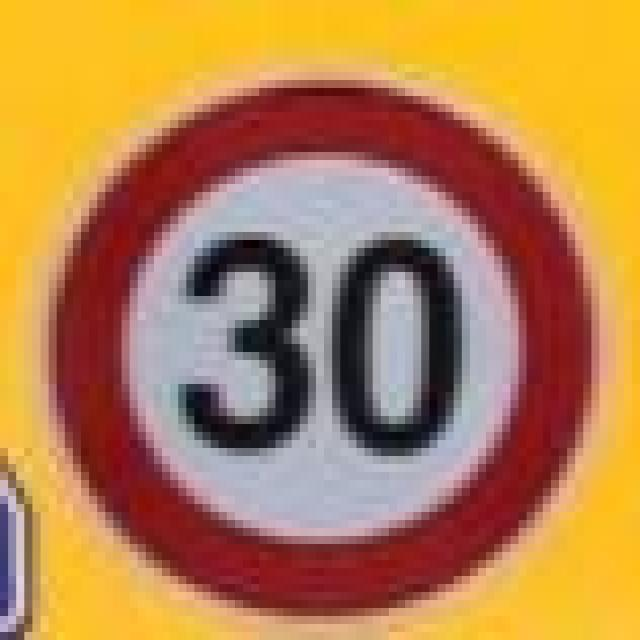traffic_sign: (41, 72, 592, 616)
